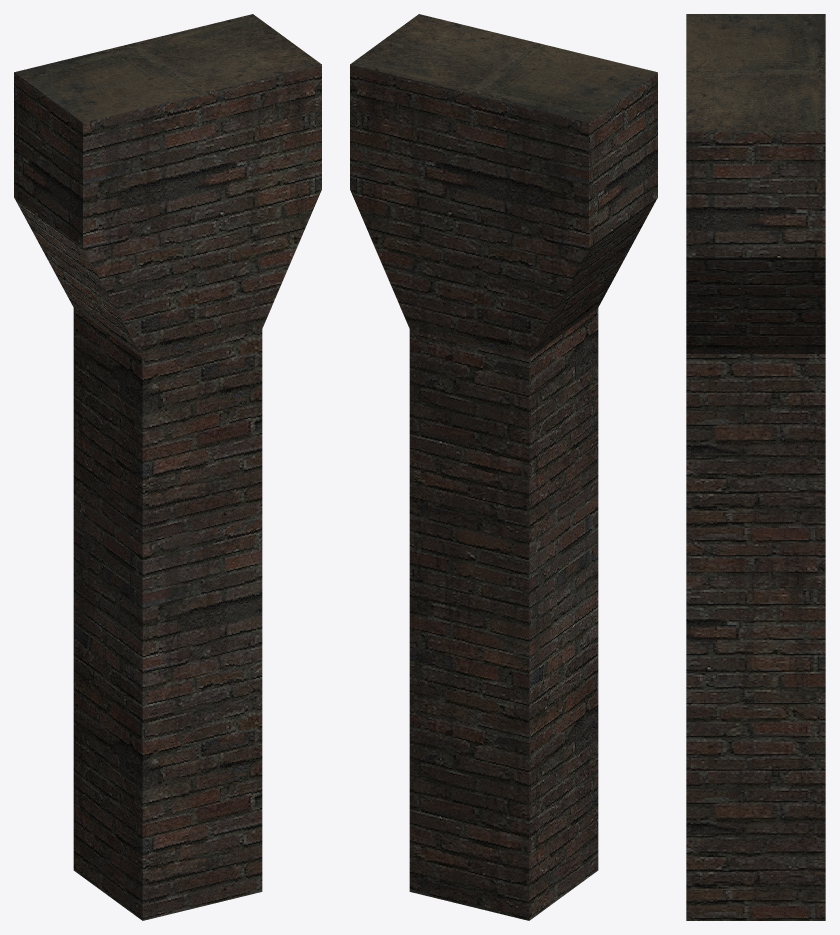
The model's file is pillar_hs_7.glb.
3 views of the same model, side by side, from view 1: azimuth 30°, elevation 25°; view 2: azimuth 150°, elevation 25°; view 3: azimuth 270°, elevation 25° (orthographic).
Visible parts, largest first — view 1: pillar_hs_7; view 2: pillar_hs_7; view 3: pillar_hs_7.
Boxes of the visible parts, left/top/right/bottom form: pillar_hs_7: left=14, top=14, right=321, bottom=920; pillar_hs_7: left=350, top=14, right=657, bottom=920; pillar_hs_7: left=686, top=14, right=825, bottom=920.
Size of the model in its own units: 2 by 6.5 by 1.
2 materials, 2 textured.
